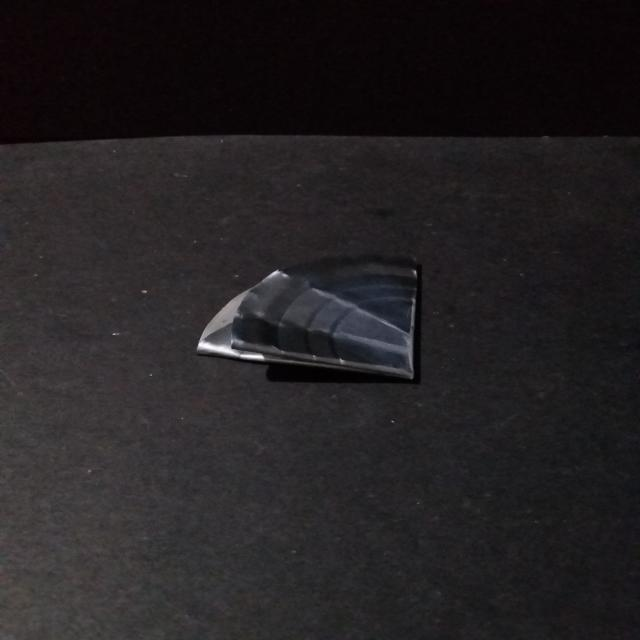metal: (193, 250, 424, 387)
